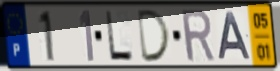1: (37, 9, 56, 63), (78, 9, 95, 64)
A: (217, 10, 253, 61)
D: (136, 8, 173, 64)
L: (103, 9, 136, 64)
R: (179, 7, 217, 64)
